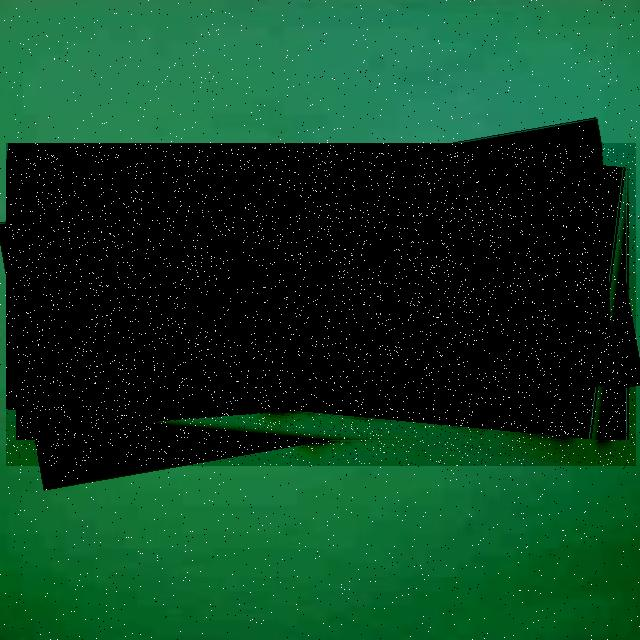lima puluh ribu rupiah: (6, 143, 636, 466)
